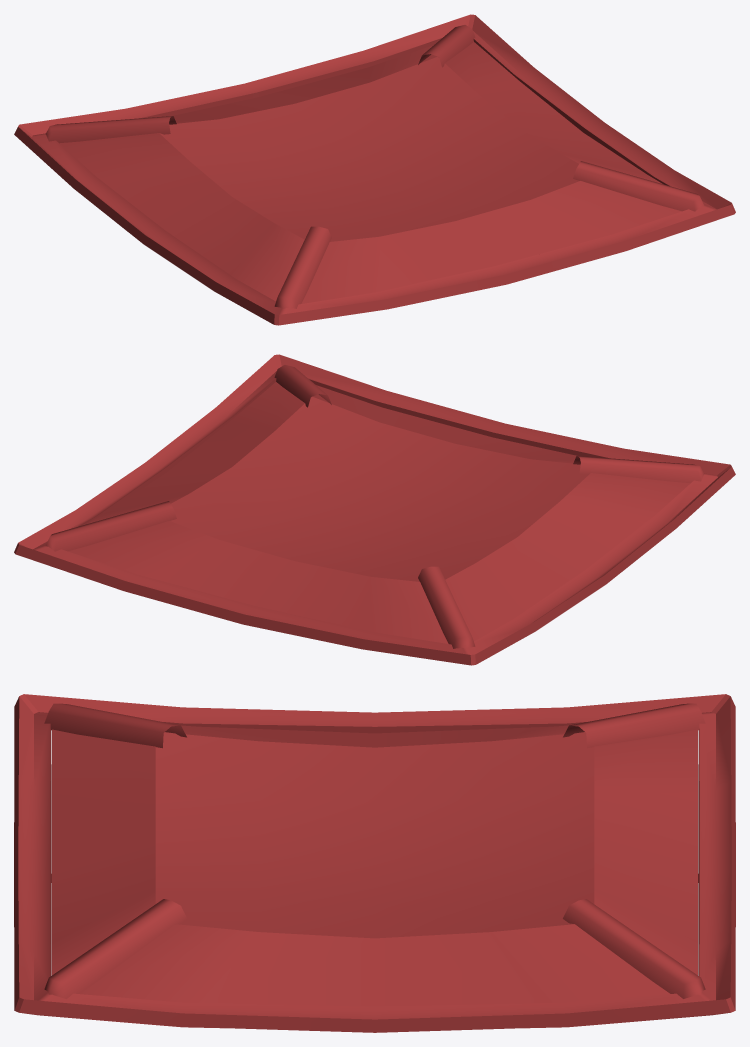
The model's file is Japanesehouse_roof_02.fbx.
3 renders of one model, top to bottom at view 1: azimuth 30°, elevation 25°; view 2: azimuth 150°, elevation 25°; view 3: azimuth 270°, elevation 25°, orthographic. The views are drawn at different scales.
Parts seen in each view (by area): view 1: pPipe14; view 2: pPipe14; view 3: pPipe14.
Part boxes in pixels (box(x1,y1,x2,y2)): pPipe14: box(14, 14, 735, 325); pPipe14: box(14, 354, 735, 665); pPipe14: box(14, 694, 735, 1032).
Size of the model in its own units: 474 by 51.14 by 468.
